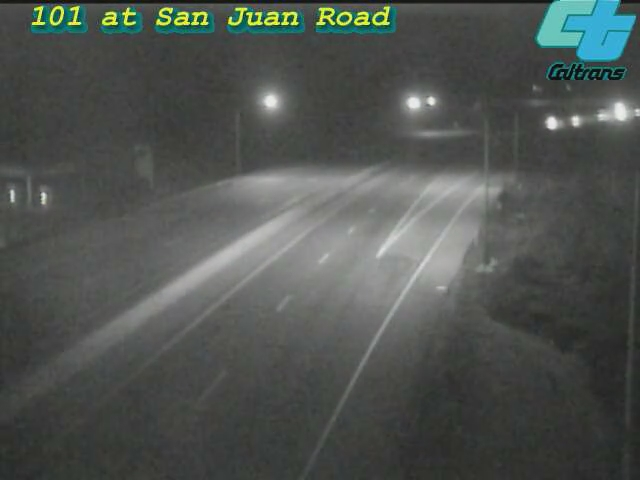vehicle: (579, 91, 629, 141), (554, 96, 604, 146), (529, 99, 579, 149), (593, 86, 640, 136), (611, 88, 640, 138)
